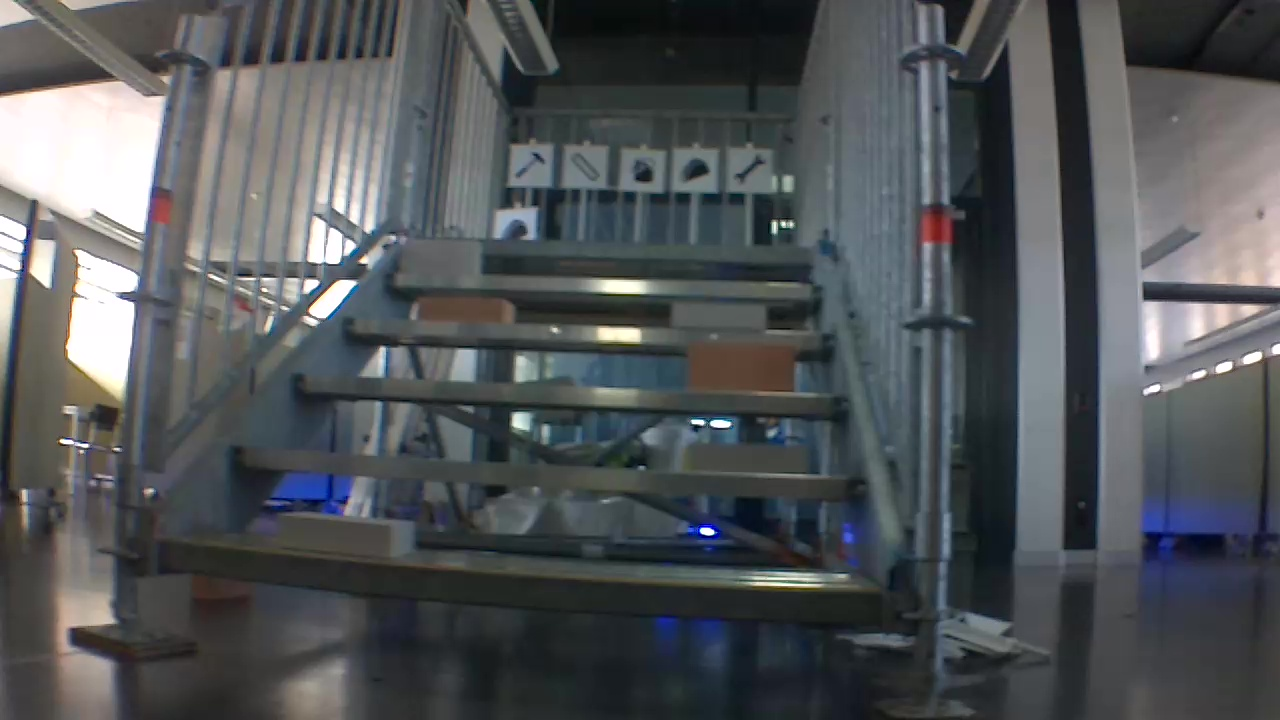brick: (676, 345, 797, 396), (272, 513, 425, 553), (688, 445, 812, 473), (409, 293, 527, 322), (394, 239, 486, 271), (671, 302, 770, 329)
bucket: (627, 156, 660, 182)
edge: (154, 537, 882, 635), (230, 443, 869, 500), (291, 375, 849, 416), (339, 317, 837, 353), (390, 269, 815, 302), (412, 235, 810, 262)
hammer: (513, 151, 548, 179)
ruler: (567, 153, 602, 185)
stairs: (103, 0, 944, 684)
steps: (124, 235, 901, 623)
taco: (678, 156, 714, 182), (497, 215, 531, 240)
wrench: (733, 153, 771, 186)
